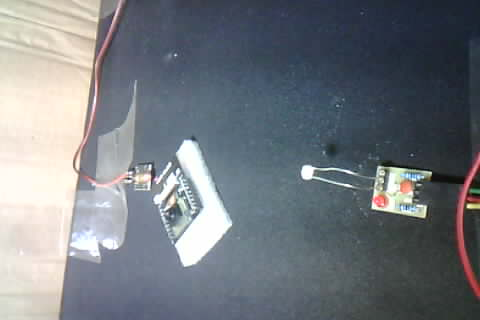esp32: (150, 140, 223, 262)
